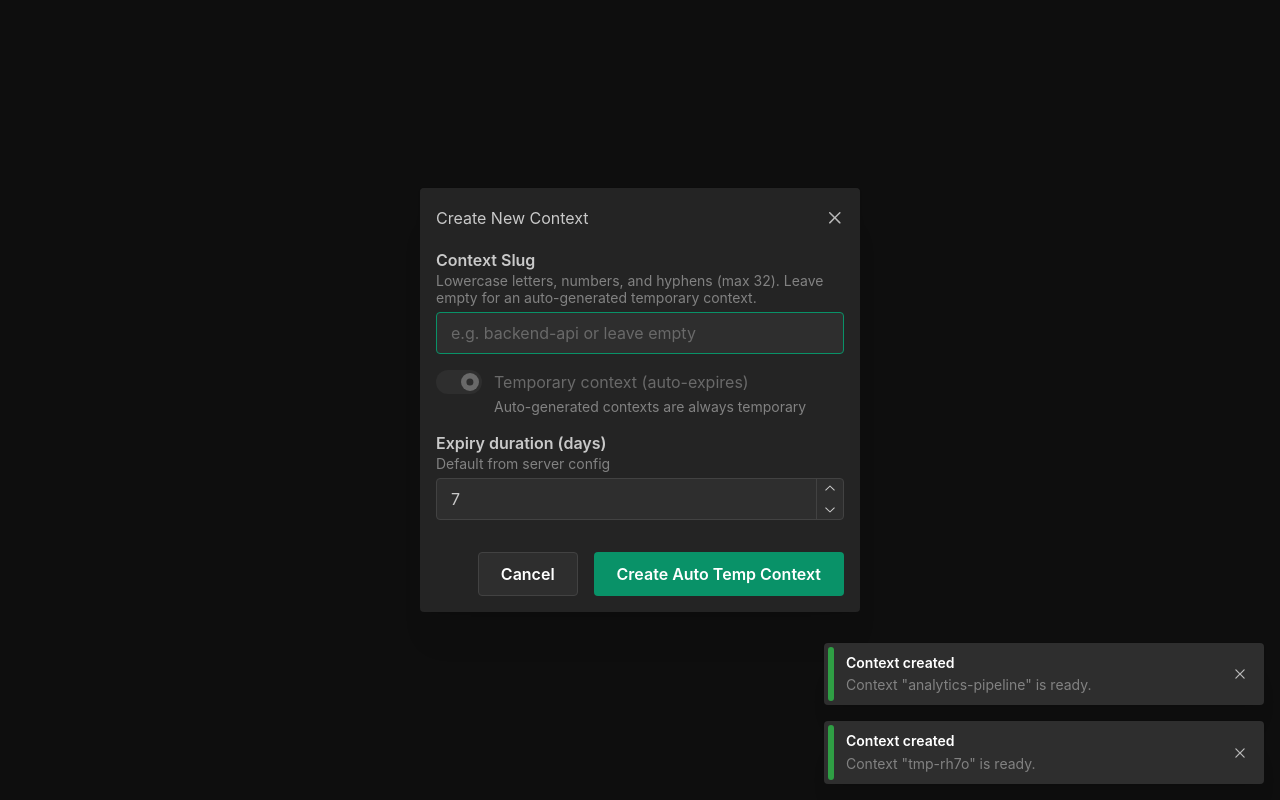
Contexts Feature › CreateContextModal flow › shows error when creating context with duplicate slug
Type "core-system" into the field labelled "Context Slug" at {"x": 640, "y": 332}, box [436,312,844,354]
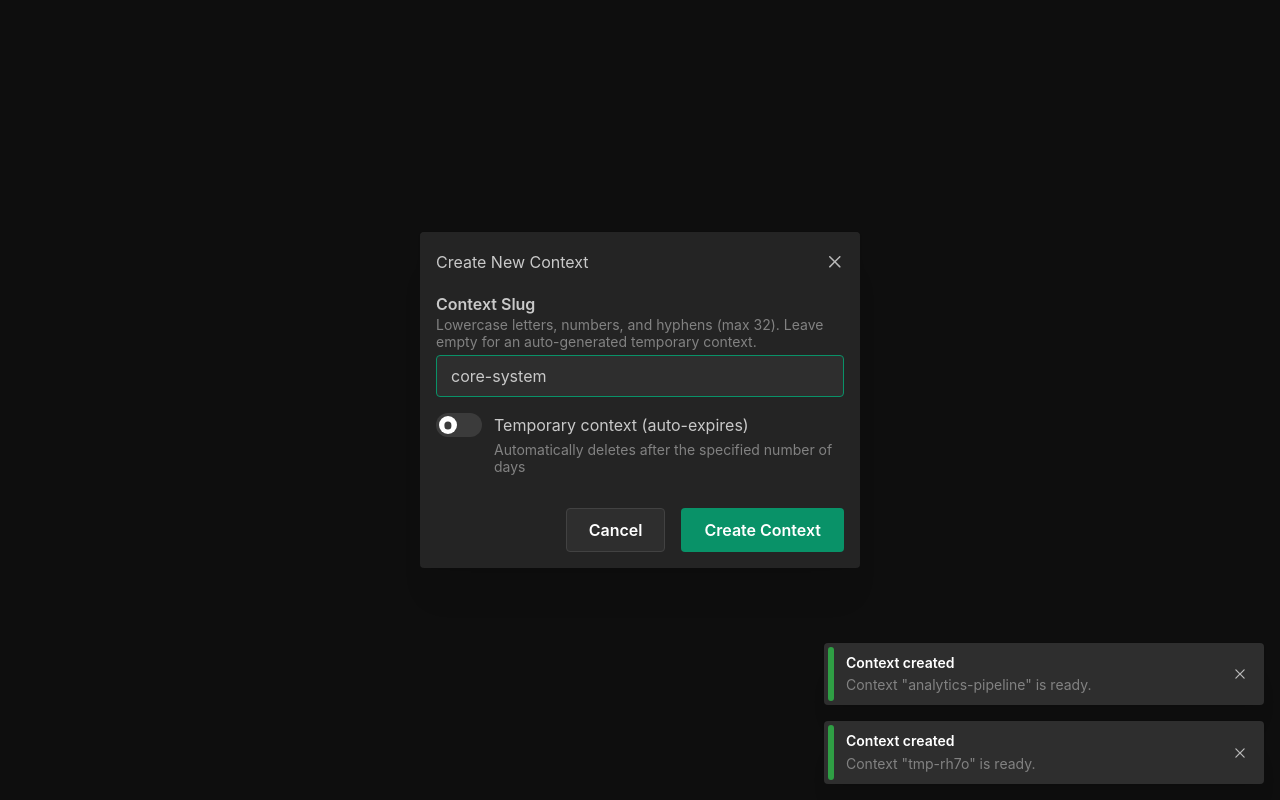
Click the button "Create Context" at {"x": 763, "y": 530}, box [682,508,844,552]
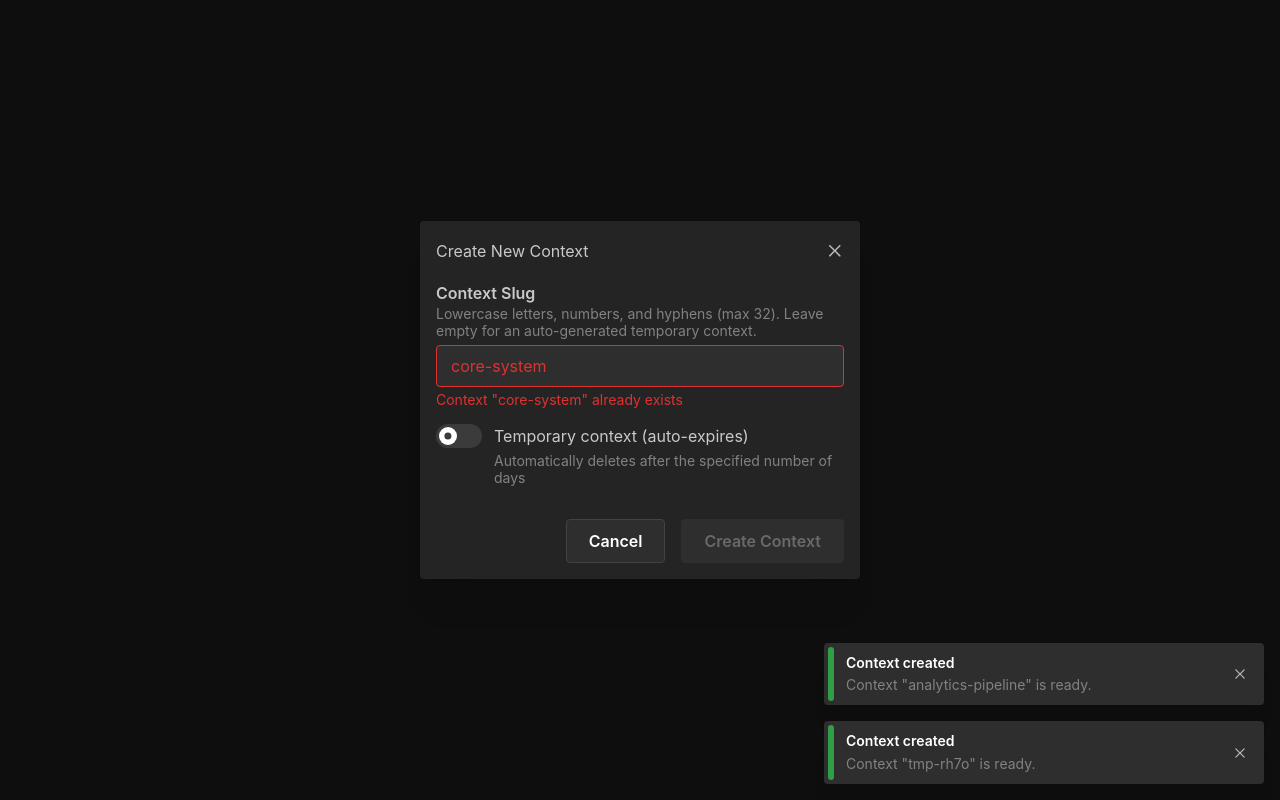
Now the text "Context \"core-system\" already exists" is shown, box [436,390,683,408]
